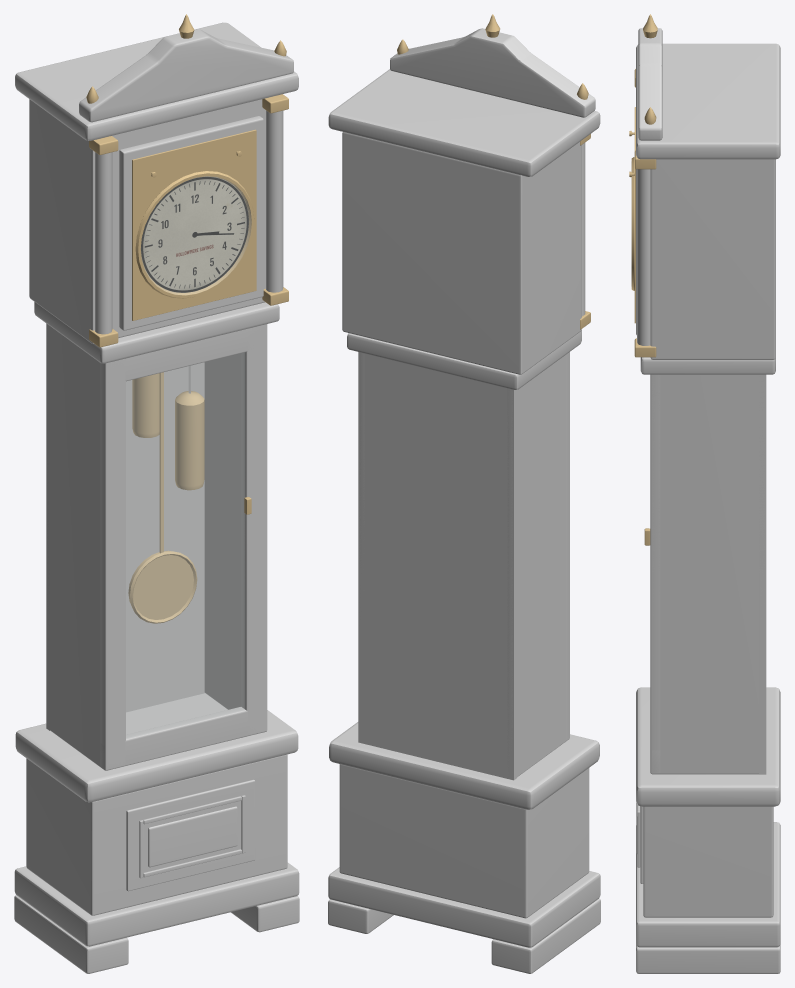
File: SM_GrandfatherClock.fbx
3 renders of one model, left to right at view 1: azimuth 30°, elevation 25°; view 2: azimuth 150°, elevation 25°; view 3: azimuth 270°, elevation 25°, orthographic. The views are drawn at different scales.
Visible parts, largest first — view 1: SM_GrandfatherClock; view 2: SM_GrandfatherClock; view 3: SM_GrandfatherClock.
Boxes of the visible parts, <box> form: SM_GrandfatherClock: <box>14,14,299,973</box>; SM_GrandfatherClock: <box>328,14,600,973</box>; SM_GrandfatherClock: <box>629,14,780,973</box>.
Bounding box in the file's own units: 50 × 208 × 31.4.
